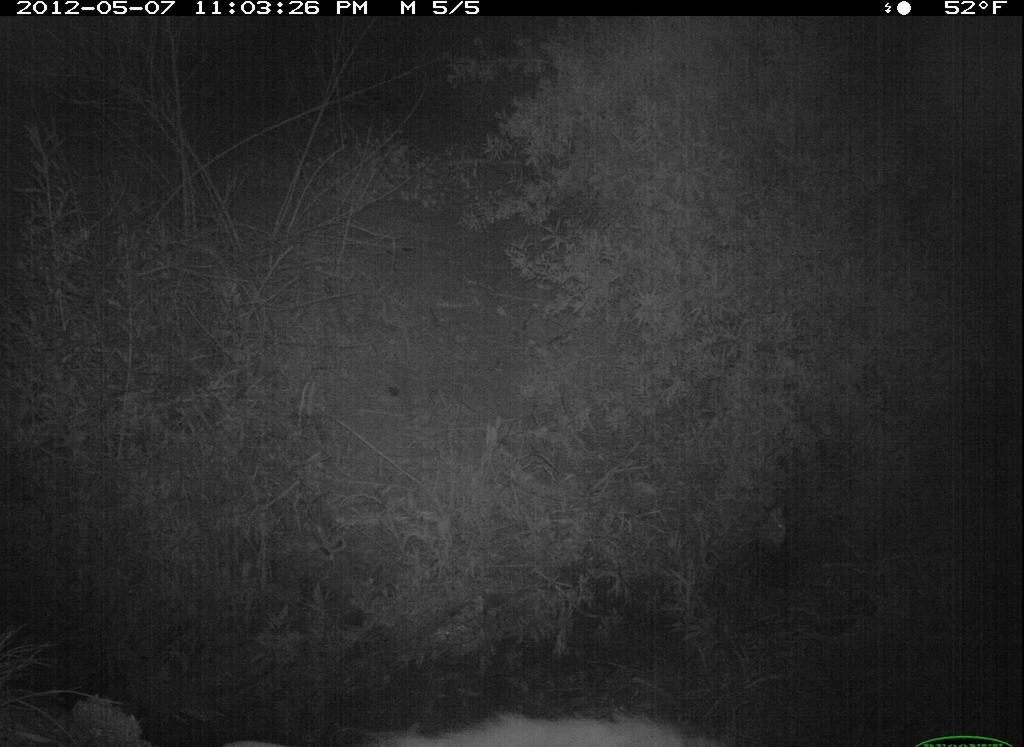opossum: (216, 701, 751, 747)
